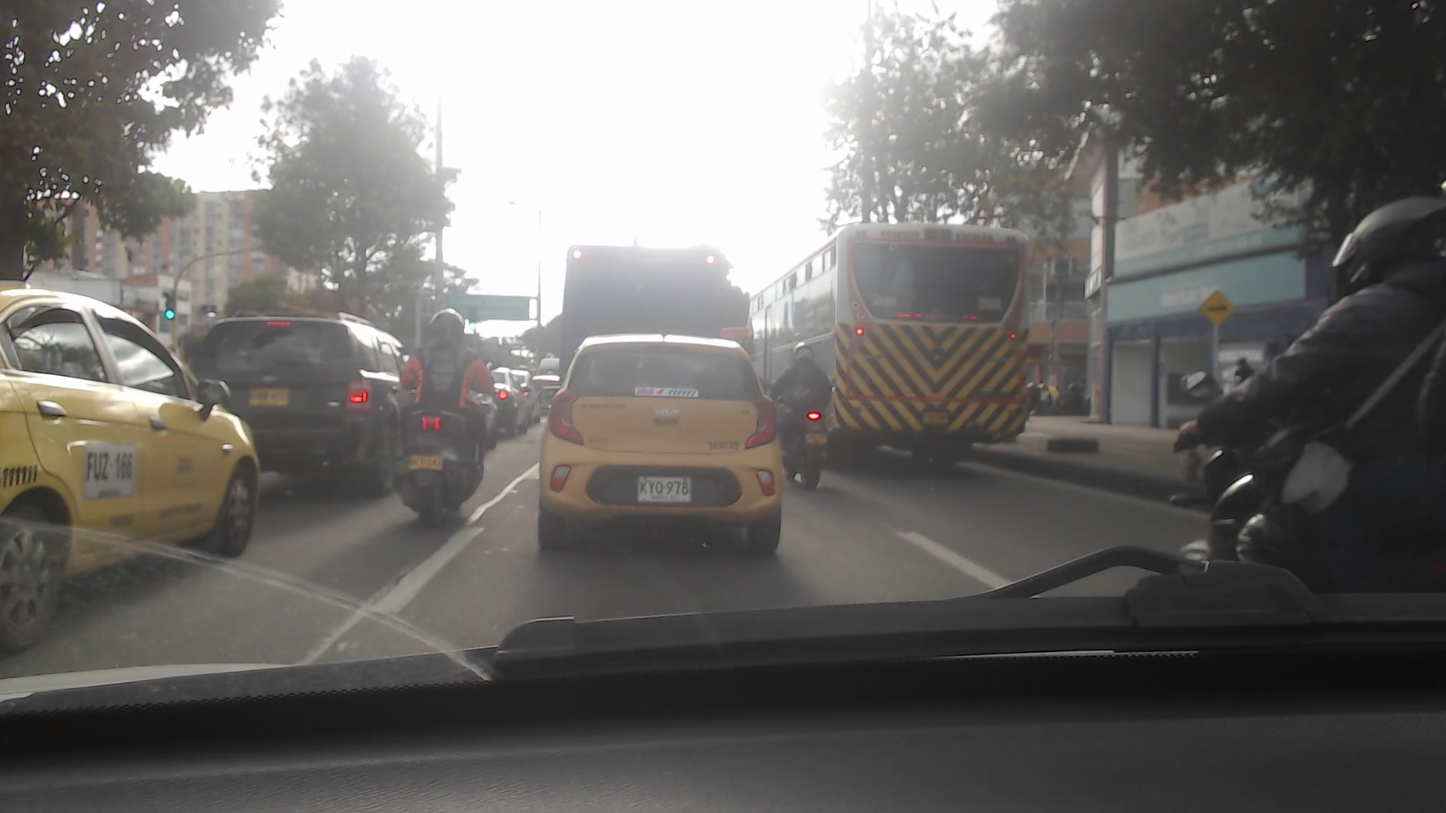bus: (750, 219, 1036, 467)
car: (3, 284, 258, 649), (531, 332, 785, 553), (183, 311, 402, 497)
motorcycle: (383, 402, 493, 527), (768, 403, 828, 491)
person: (1217, 178, 1446, 596), (404, 304, 500, 464), (768, 341, 845, 458)
truck: (559, 244, 734, 335)
